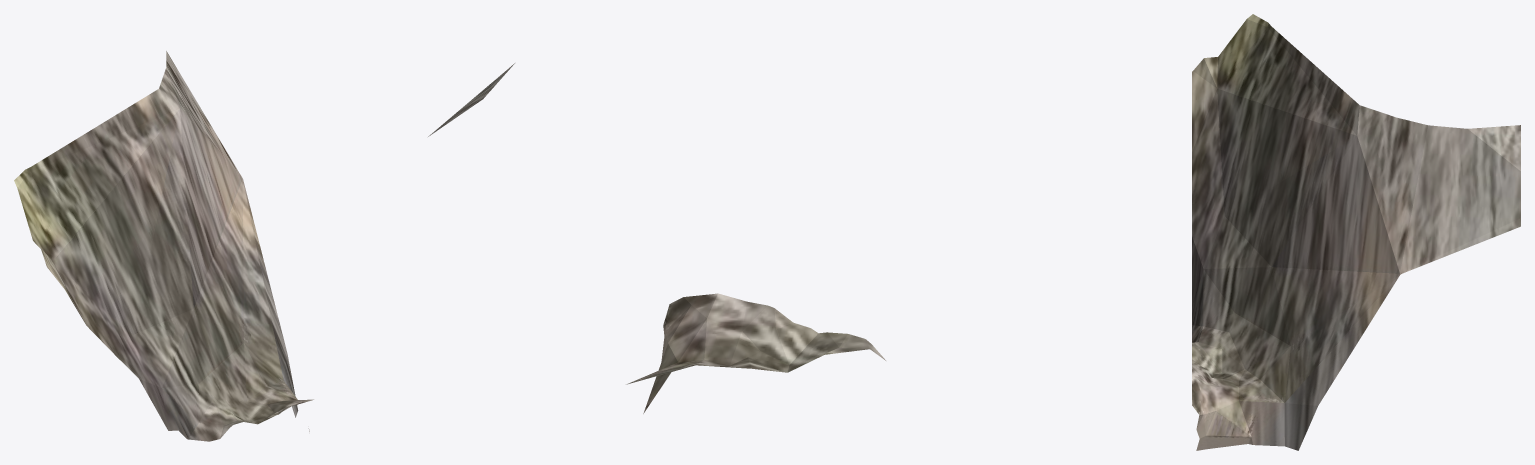
3 renders of one model, left to right at view 1: azimuth 30°, elevation 25°; view 2: azimuth 150°, elevation 25°; view 3: azimuth 270°, elevation 25°, orthographic. The views are drawn at different scales.
Bounding box in the file's own units: 2.95 × 2.95 × 2.95.
3 materials, 3 textured.
